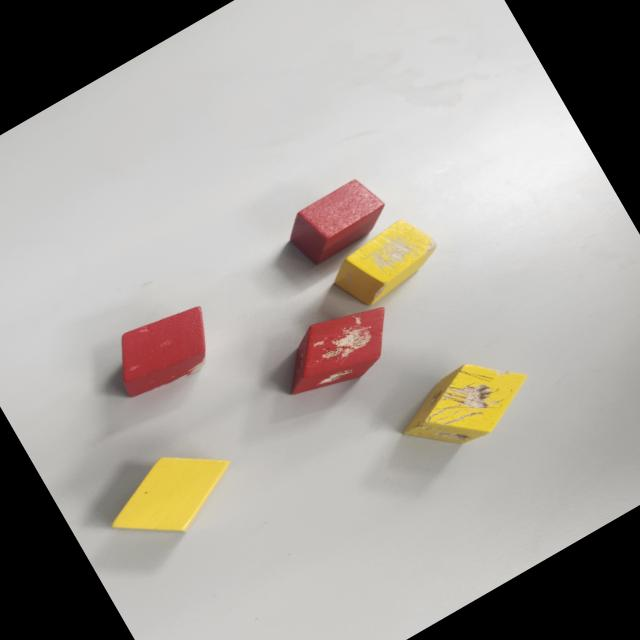broken: (386, 338, 544, 472), (266, 289, 408, 411), (100, 294, 227, 406), (324, 210, 448, 316)
red: (279, 171, 396, 272)
yellow: (93, 429, 249, 563)
